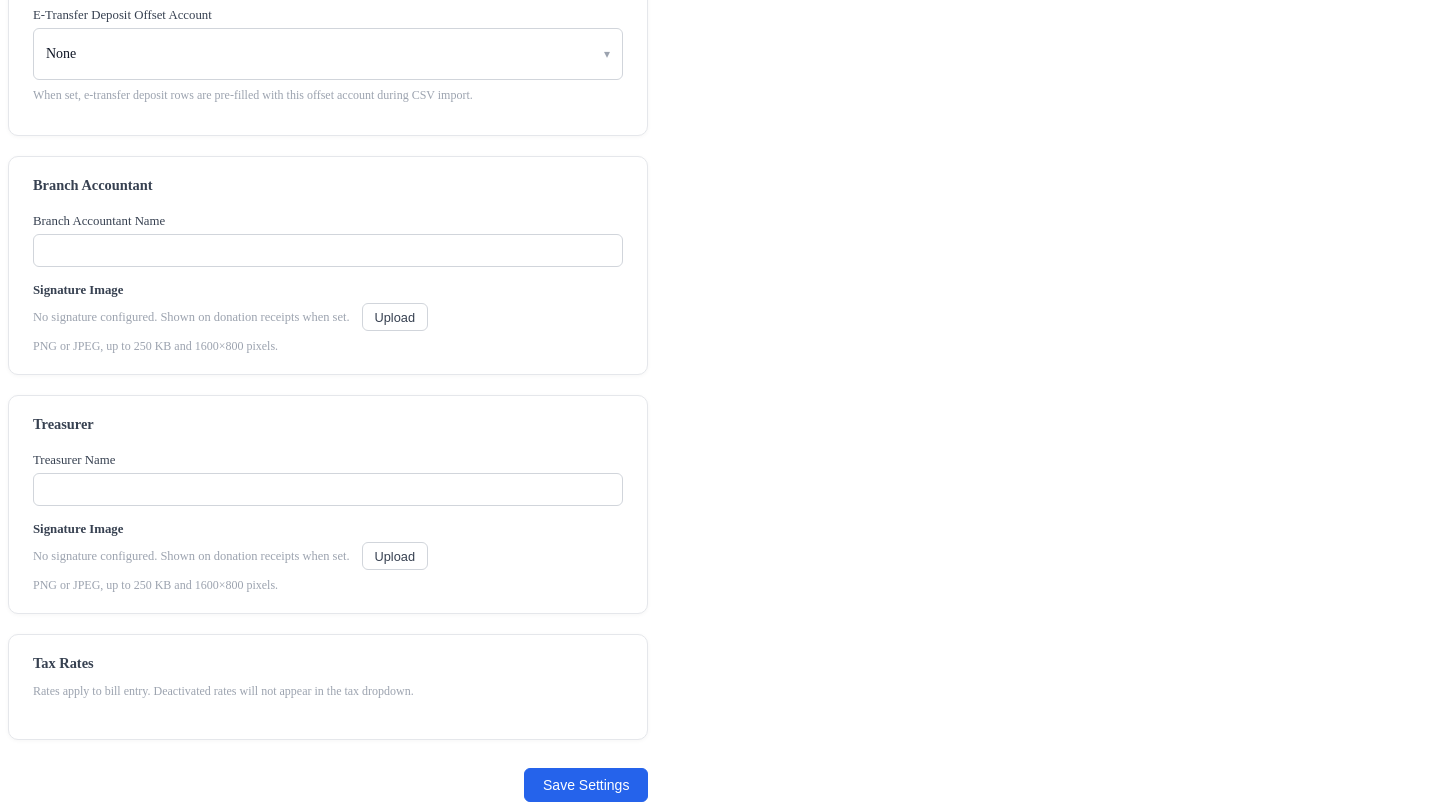
Test: Settings signer sections › surfaces server validation errors from the save response
(page scrolled)
Click the button "Save Settings" at (586, 785), box [524,768,648,802]
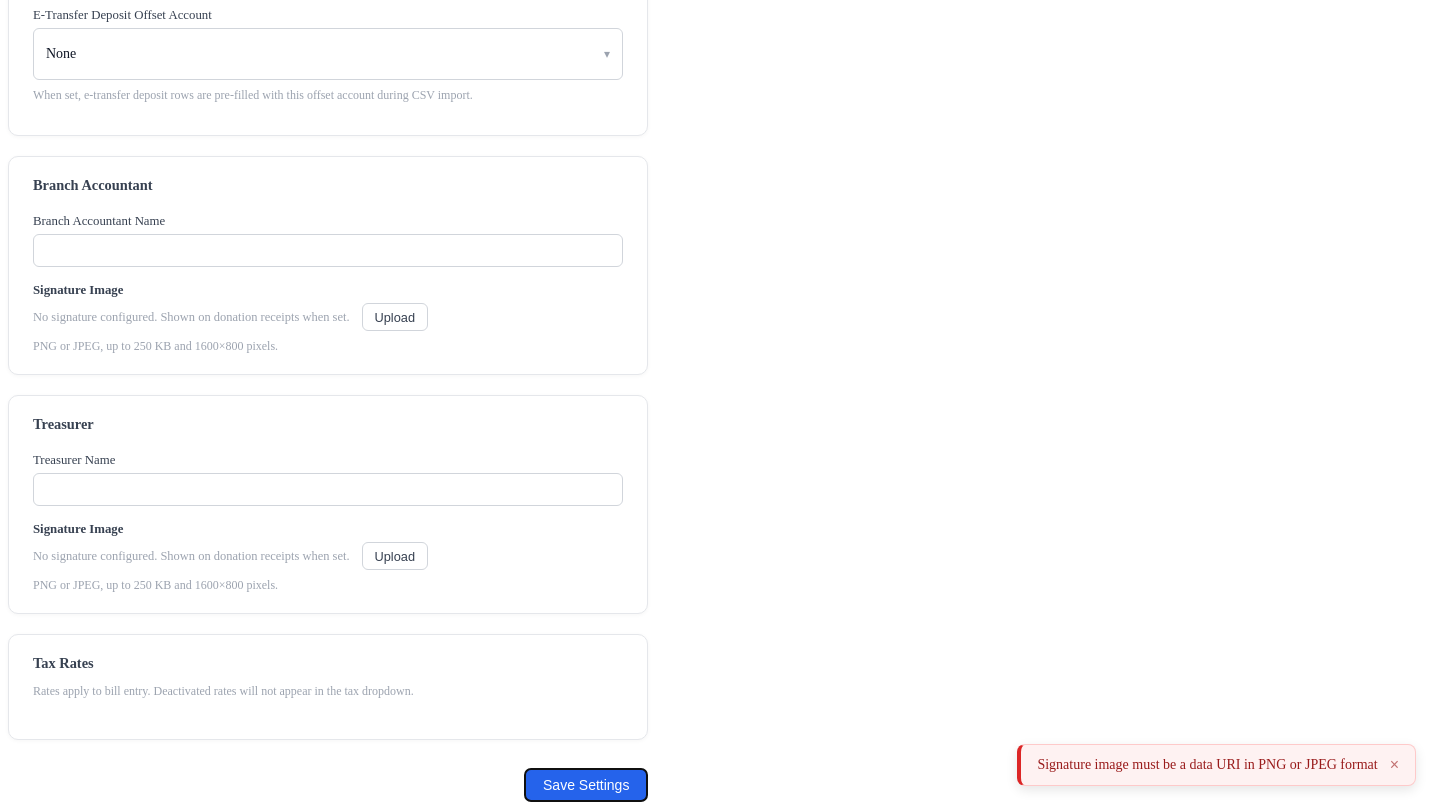
Now the text "Signature image must be a data URI in PNG or JPEG format" is shown, box [1037,757,1378,773]
